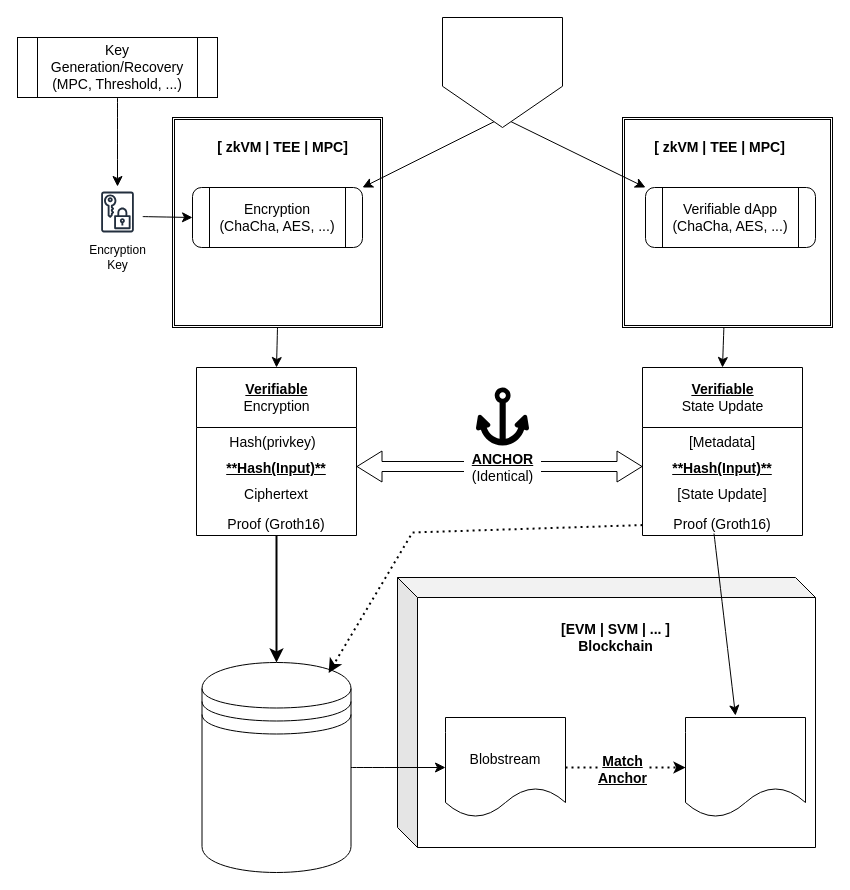
Image size: 850x890. Some labels were removed from this diagram. The shapes that lost their labels are listed below. From the top down, each one's centre as x and y in pixels, then its label:
the point at 502,72: Input Data (Plaintext)
the point at 276,767: DA Network {Celestia}
the point at 745,767: [dApp | Rollup] Contract
